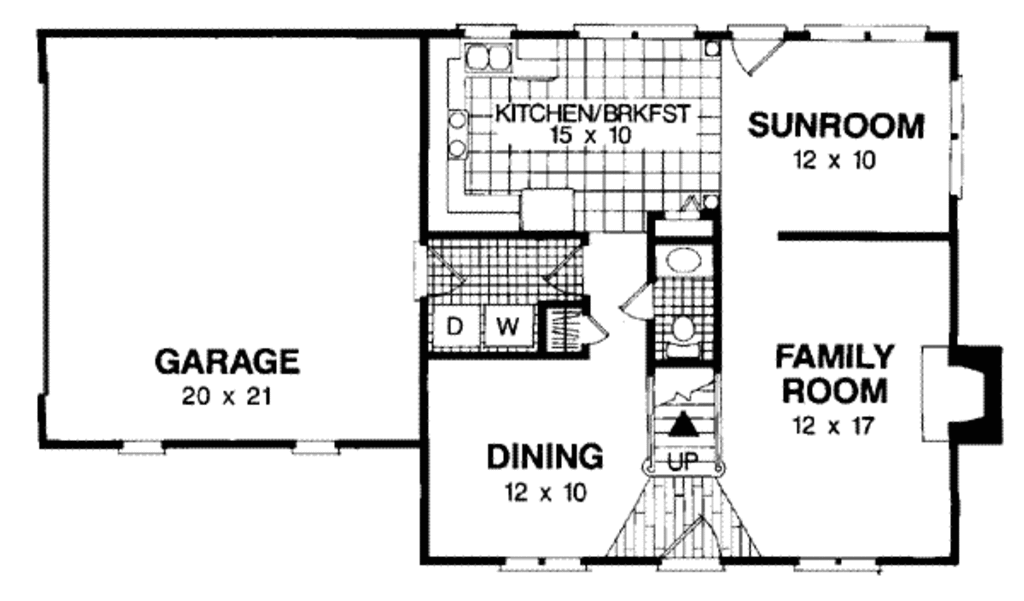door: (728, 22, 787, 76), (621, 282, 652, 322)
large_sink: (657, 313, 703, 357)
small_sink: (652, 241, 717, 285)
stairs: (641, 360, 729, 479)
twin_sink: (461, 43, 519, 75)
windows: (571, 15, 703, 42), (945, 68, 969, 202), (806, 19, 925, 43), (493, 551, 582, 576), (791, 555, 877, 574), (282, 437, 339, 456), (115, 439, 166, 458)
